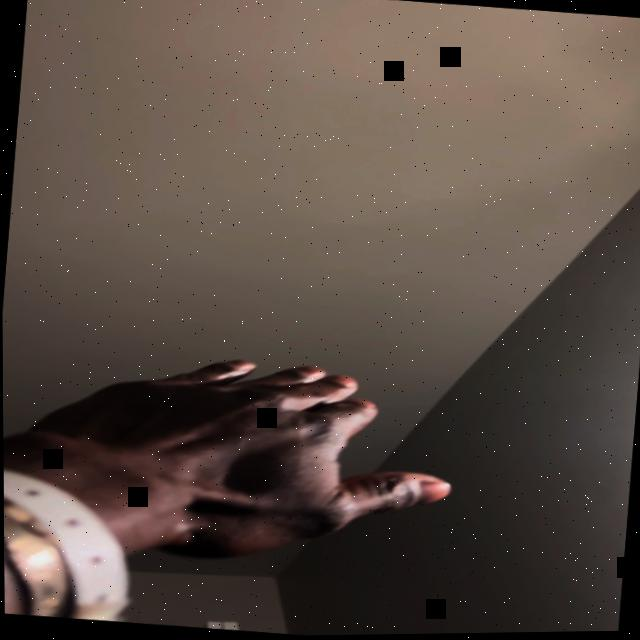Paper: (19, 336, 467, 579)
